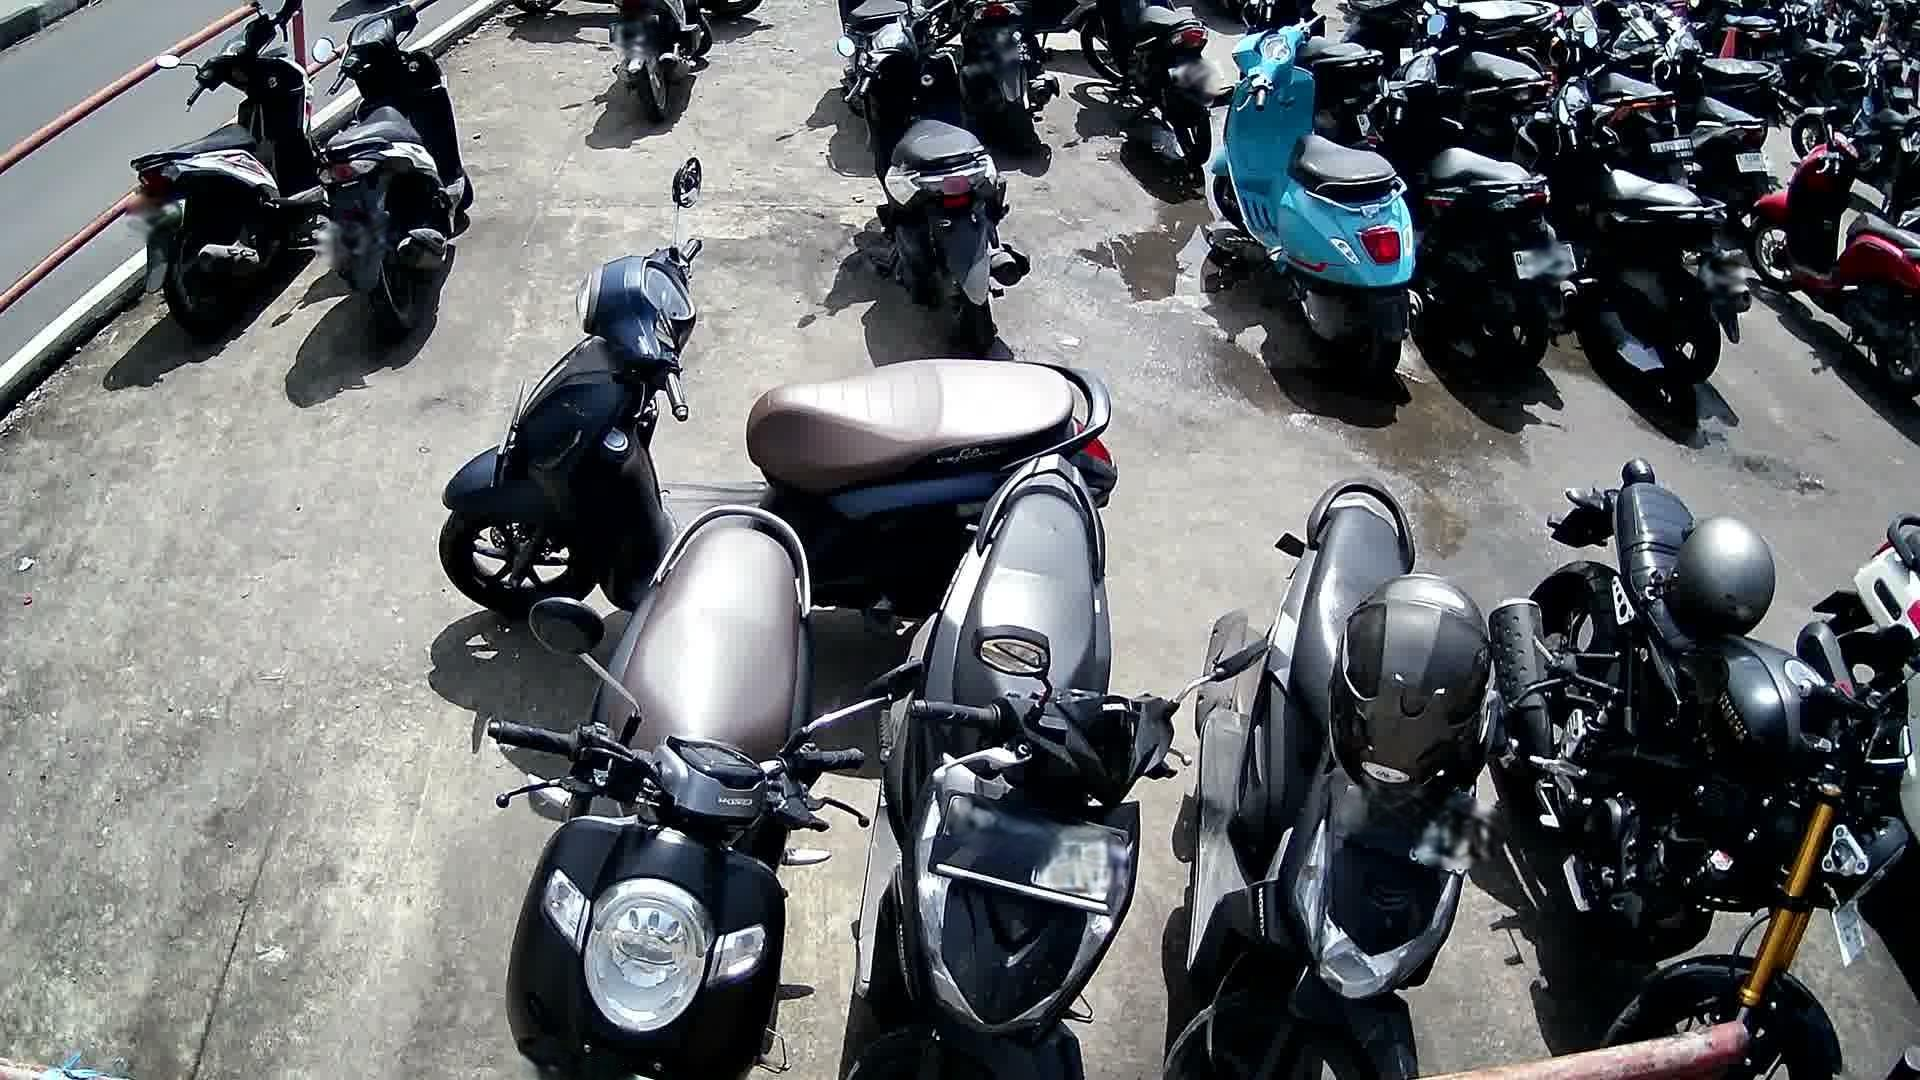motorcycle: (438, 156, 1122, 620), (1487, 456, 1912, 1080), (844, 452, 1244, 1080), (487, 505, 898, 1080), (1163, 473, 1511, 1080), (1208, 8, 1427, 409), (1506, 59, 1754, 394), (1356, 16, 1584, 380), (833, 0, 1038, 351), (129, 0, 330, 347), (313, 0, 483, 347), (1751, 105, 1920, 401)
